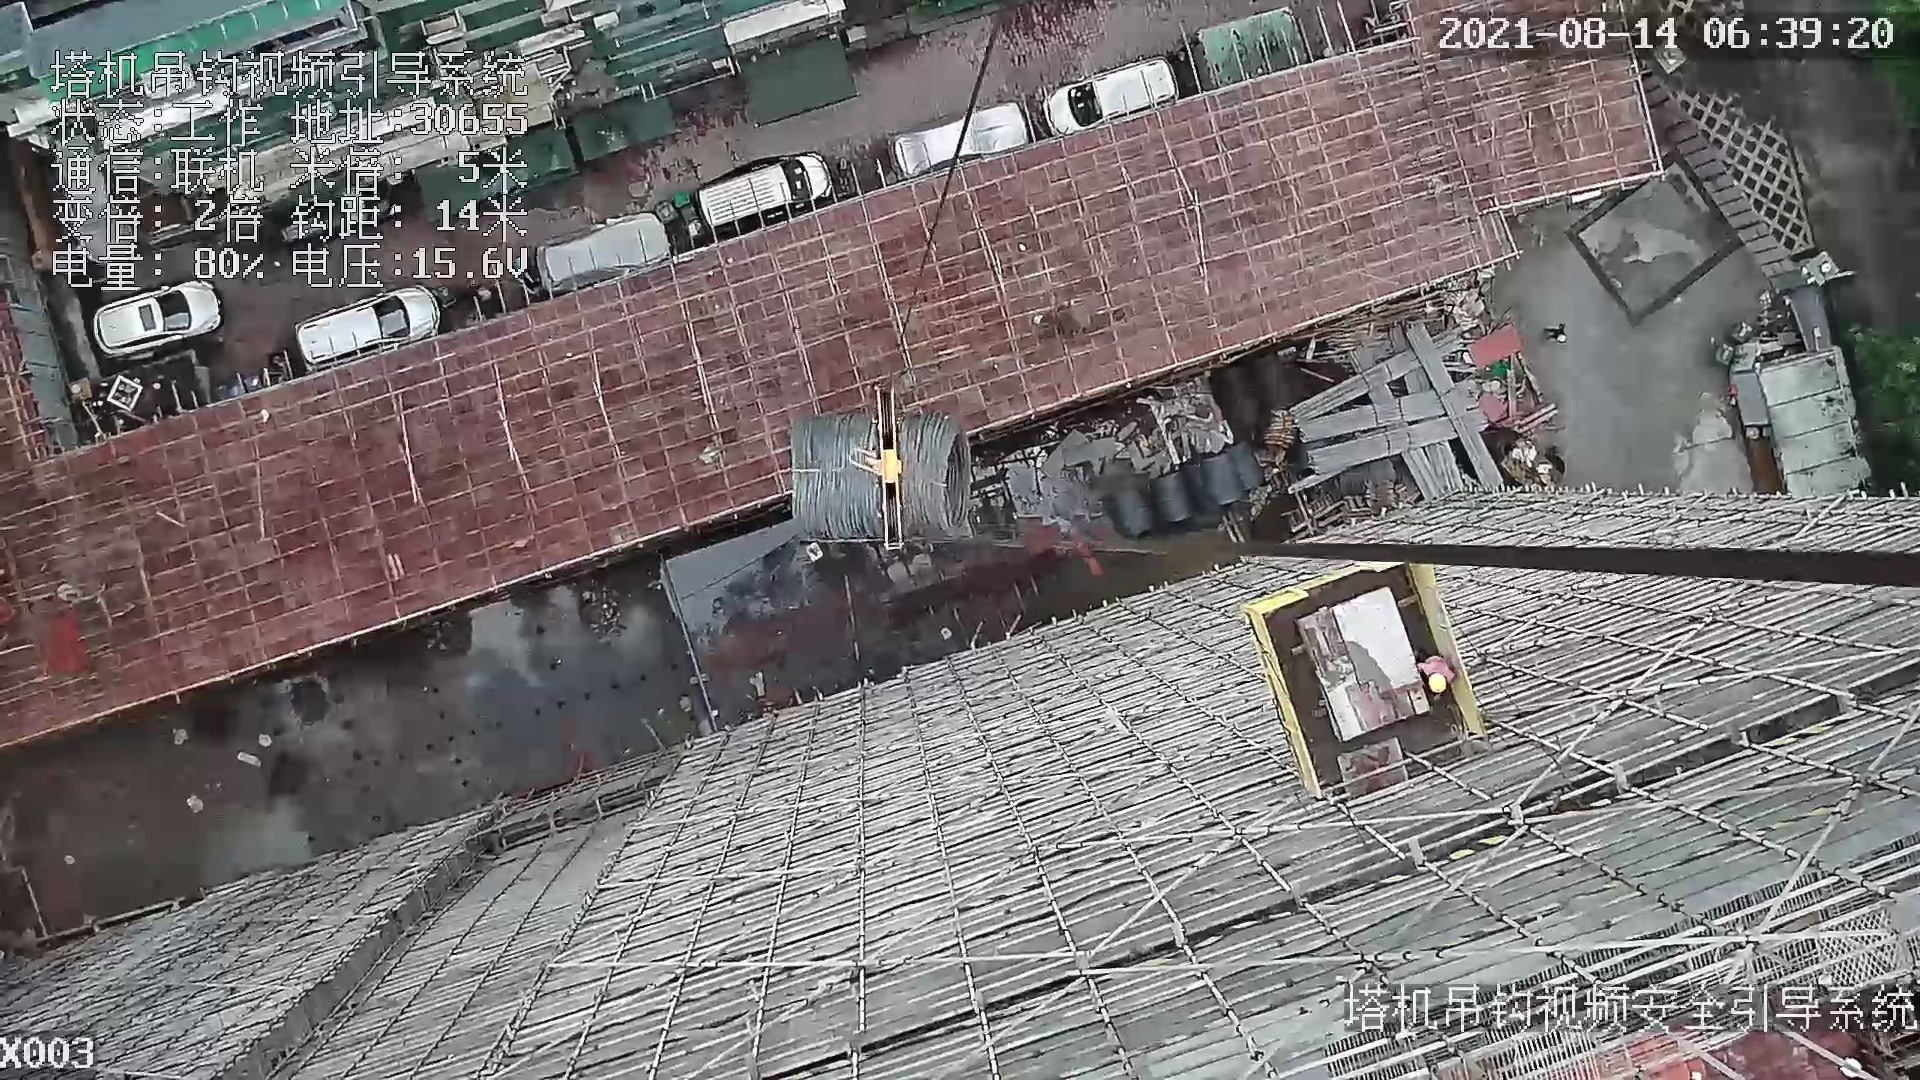helmet: (1425, 668, 1449, 699)
hook: (845, 382, 913, 553)
person: (1409, 647, 1456, 700)
